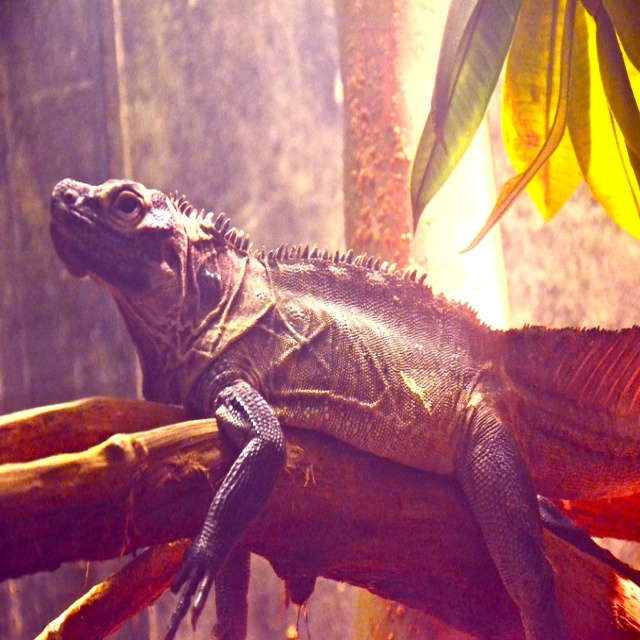Lizard: (50, 172, 626, 640)
